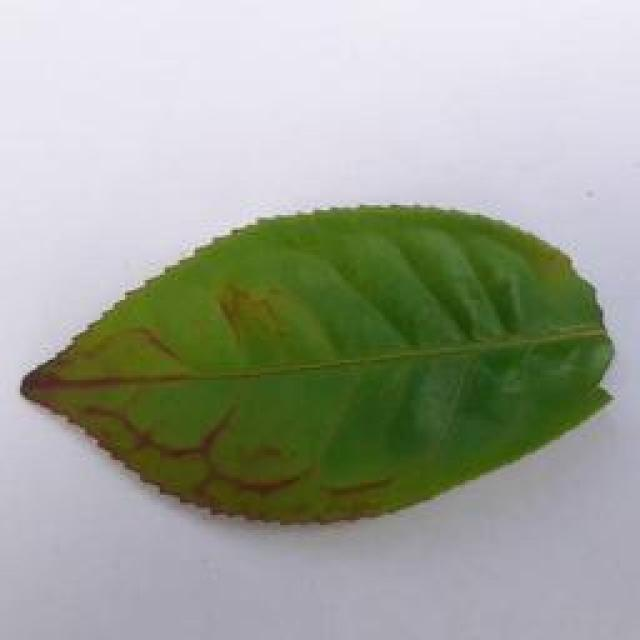Red Leaf Spot: (10, 205, 640, 533)
